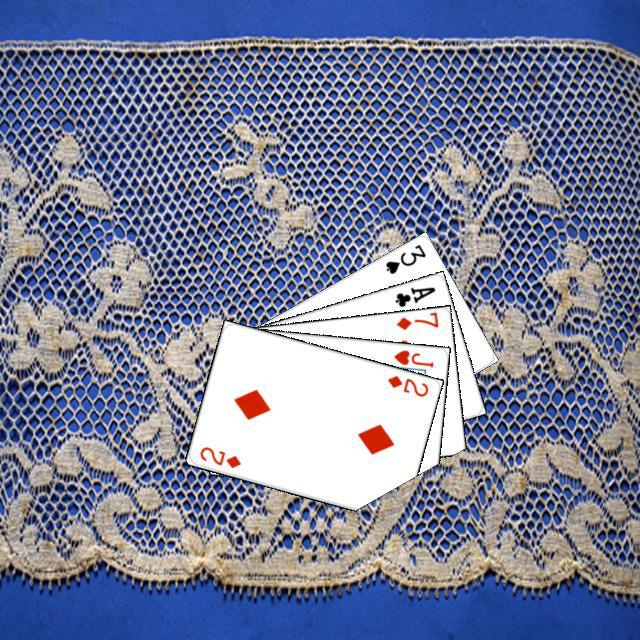2d: (382, 370, 430, 399), (195, 442, 242, 470)
3s: (380, 239, 427, 276)
7d: (391, 308, 440, 331)
Ac: (390, 282, 437, 309)
Jh: (389, 345, 435, 369)
